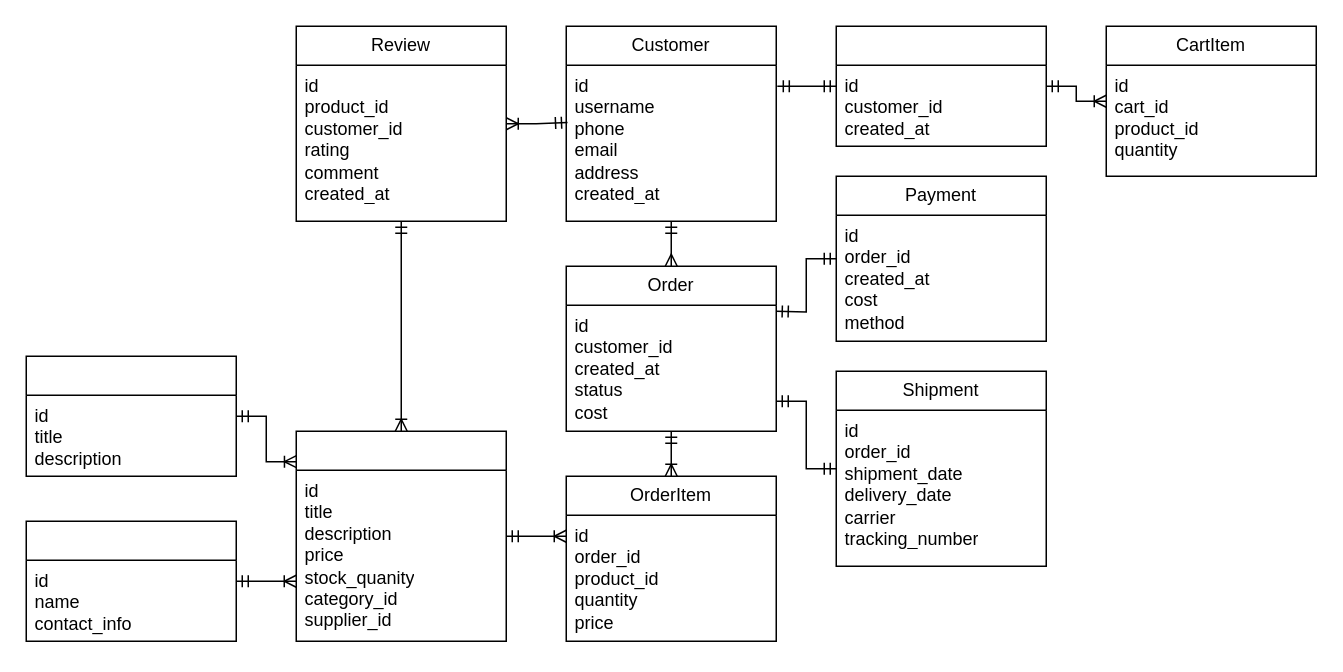
Some shapes in this 1343 by 672 pixel diagram are drawn without their labels. Here are the shapes that lost their labels. From the top down, the box of each, then its label:
(835, 25, 1046, 146): ShoppingCart
(25, 355, 236, 476): Category
(295, 430, 506, 641): Product
(25, 520, 236, 641): Supplier
